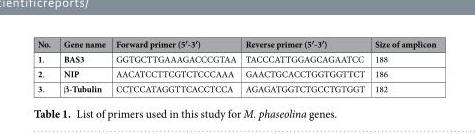table: (36, 37, 435, 94)
table column: (110, 37, 240, 94), (240, 37, 369, 94), (369, 37, 435, 94), (56, 37, 110, 94), (36, 37, 56, 94)
table column header: (36, 37, 435, 51)
table row: (36, 65, 435, 80), (36, 37, 435, 51), (36, 51, 435, 65), (36, 80, 435, 94)
